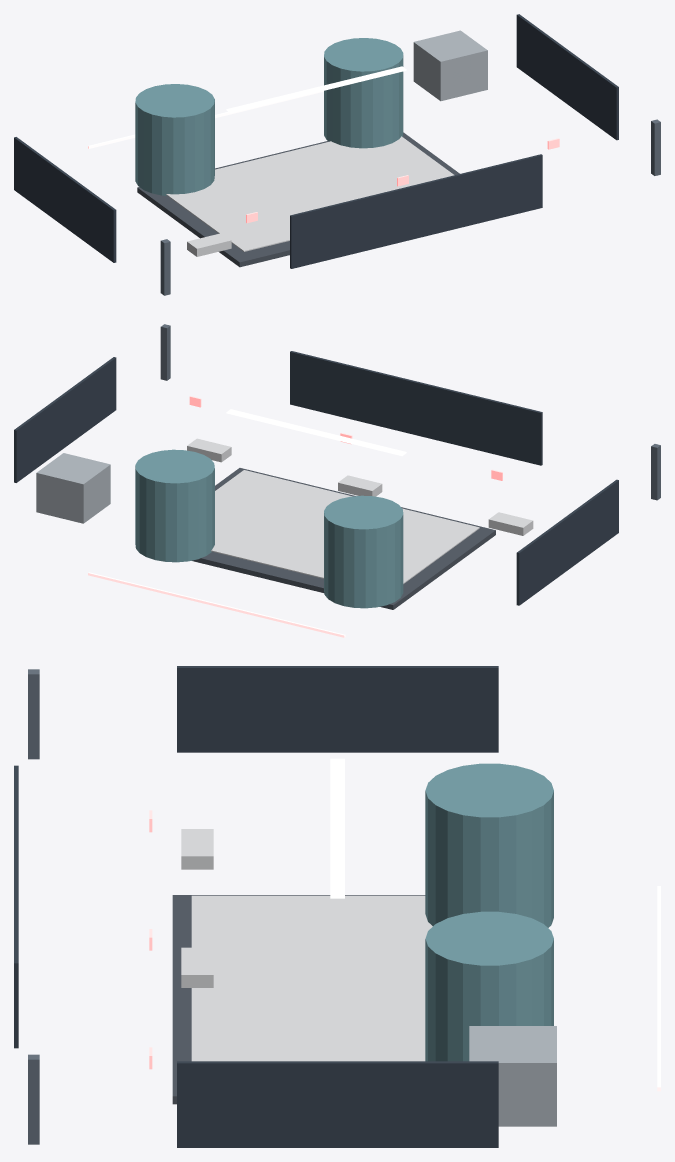
The model's file is floor-health.glb.
3 renders of one model, top to bottom at view 1: azimuth 30°, elevation 25°; view 2: azimuth 150°, elevation 25°; view 3: azimuth 270°, elevation 25°, orthographic. The views are drawn at different scales.
Parts seen in each view (by area): view 1: CommonsFloor, WallBack_health, TelehealthPod_0, TelehealthPod_1, WallL_health, WallR_health, AccessWC, Slab_health, LightStrip_health, Bed_0.001, Post_health_-1, Post_health_1; view 2: WallBack_health, CommonsFloor, TelehealthPod_0, TelehealthPod_1, WallL_health, WallR_health, AccessWC, Slab_health, LightStrip_health, Reveal_health, Bed_0.001, Bed_1.001 (+3 smaller); view 3: CommonsFloor, WallL_health, WallR_health, TelehealthPod_0, TelehealthPod_1, AccessWC, Slab_health, LightStrip_health, WallBack_health, Bed_0.001, Bed_1.001, Post_health_-1 (+2 smaller).
Boxes of the visible parts, x1,y1,x2,y2 form: CommonsFloor: (166, 136, 454, 251); WallBack_health: (290, 154, 542, 268); TelehealthPod_0: (135, 84, 214, 195); TelehealthPod_1: (324, 38, 403, 148); WallL_health: (14, 137, 116, 262); WallR_health: (516, 14, 618, 140); AccessWC: (413, 30, 487, 101); Slab_health: (137, 132, 459, 267); LightStrip_health: (226, 66, 406, 113); Bed_0.001: (187, 233, 231, 256); Post_health_-1: (160, 239, 170, 295); Post_health_1: (651, 119, 660, 175); WallBack_health: (290, 351, 542, 465); CommonsFloor: (211, 470, 479, 583); TelehealthPod_0: (324, 495, 403, 608); TelehealthPod_1: (135, 449, 214, 562); WallL_health: (516, 479, 618, 605); WallR_health: (14, 357, 116, 482); AccessWC: (36, 453, 110, 523); Slab_health: (191, 468, 495, 609); LightStrip_health: (226, 409, 406, 456); Reveal_health: (88, 572, 345, 637); Bed_0.001: (488, 512, 533, 535); Bed_1.001: (338, 475, 382, 496); CommonsFloor: (191, 895, 432, 1061); WallL_health: (177, 666, 498, 752); WallR_health: (177, 1061, 498, 1147); TelehealthPod_0: (425, 763, 553, 927); TelehealthPod_1: (425, 911, 553, 1061); AccessWC: (469, 1026, 556, 1126); Slab_health: (172, 895, 425, 1104); LightStrip_health: (330, 758, 344, 898); WallBack_health: (14, 765, 18, 1048); Bed_0.001: (181, 829, 213, 869); Bed_1.001: (181, 947, 213, 987); Post_health_-1: (28, 669, 39, 759).
Bounding box in the file's own units: 16.08 × 3.32 × 11.07.
